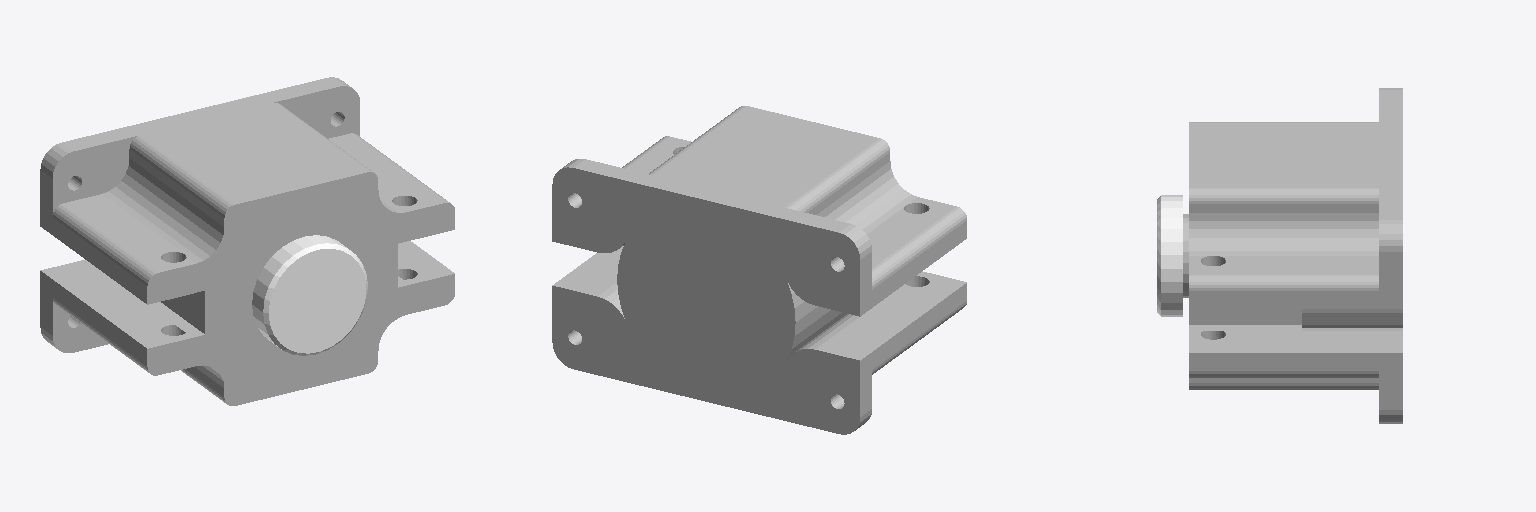
The model's file is clamp_body.obj.
3 renders of one model, left to right at view 1: azimuth 30°, elevation 25°; view 2: azimuth 150°, elevation 25°; view 3: azimuth 270°, elevation 25°, orthographic.
Size of the model in its own units: 0.088 by 0.055 by 0.061.